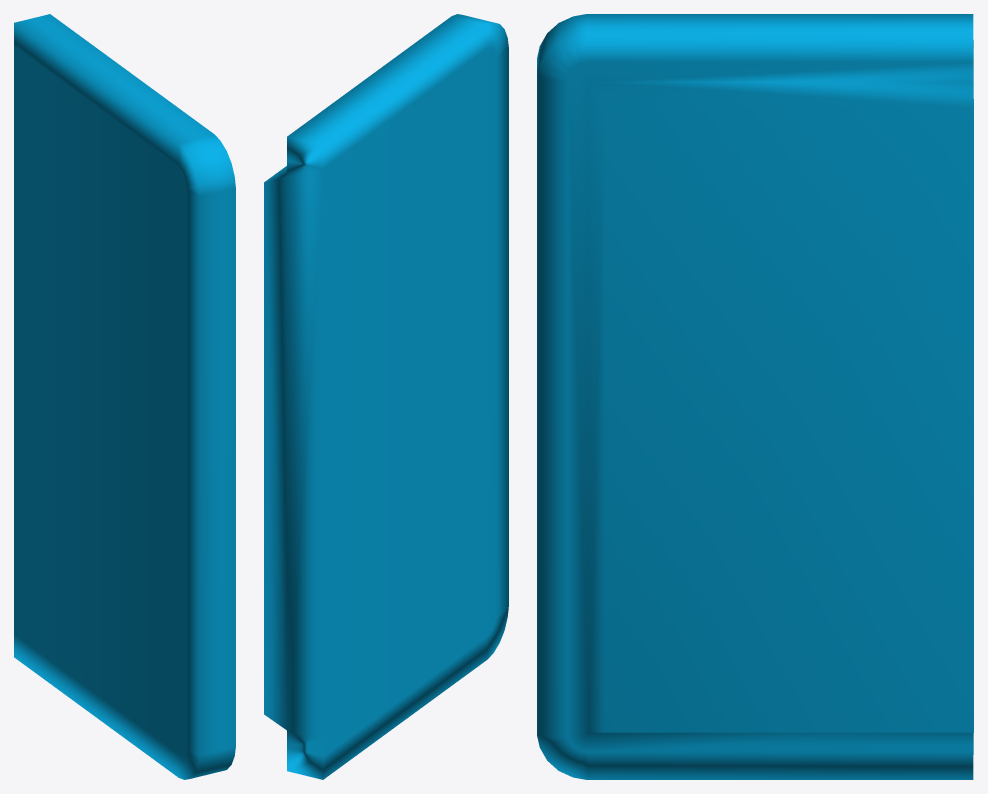
File: Restaurant_Electric_Fryer_Door_02_Lod2.fbx
The picture shows the model from 3 angles, left to right: view 1: azimuth 30°, elevation 25°; view 2: azimuth 150°, elevation 25°; view 3: azimuth 270°, elevation 25°; orthographic projection. The views are drawn at different scales.
Visible parts, largest first — view 1: Restaurant_Electric_Fryer_Door_02_Lod2; view 2: Restaurant_Electric_Fryer_Door_02_Lod2; view 3: Restaurant_Electric_Fryer_Door_02_Lod2.
Boxes of the visible parts, x1,y1,x2,y2 form: Restaurant_Electric_Fryer_Door_02_Lod2: [14, 14, 235, 779]; Restaurant_Electric_Fryer_Door_02_Lod2: [264, 14, 508, 779]; Restaurant_Electric_Fryer_Door_02_Lod2: [537, 14, 973, 779].
Size of the model in its own units: 4.83 by 49.79 by 26.46.
